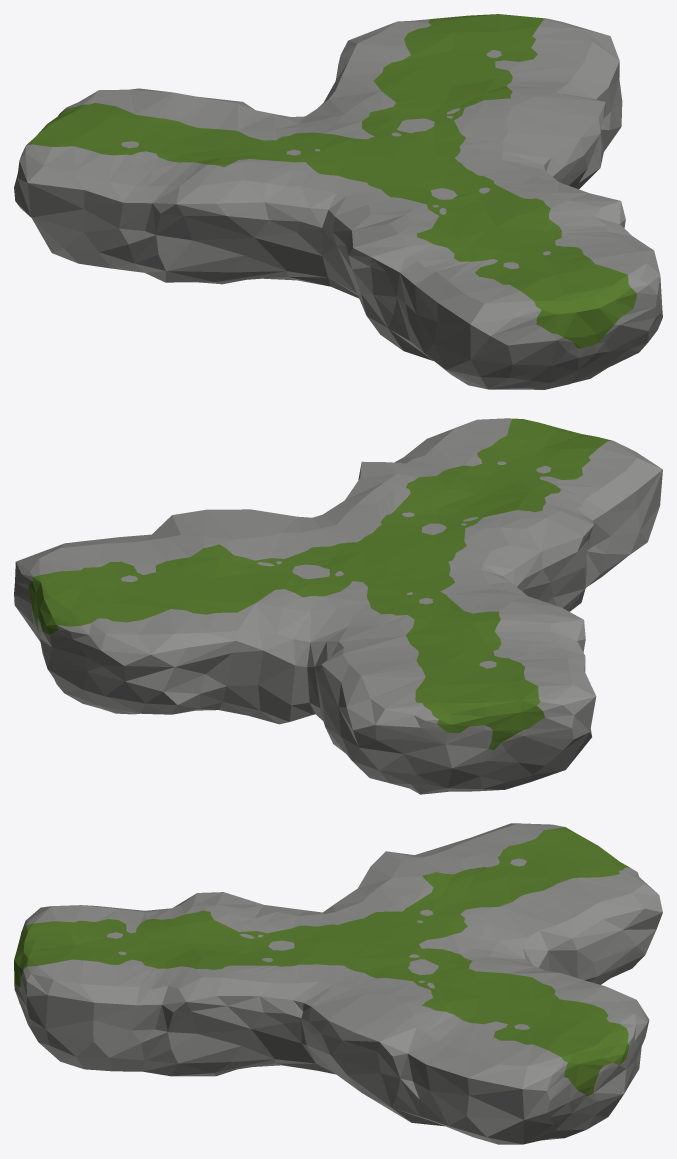
The model's file is Cavern_FloorGrass_Narrow_Intersection-02.fbx.
3 renders of one model, top to bottom at view 1: azimuth 30°, elevation 25°; view 2: azimuth 150°, elevation 25°; view 3: azimuth 270°, elevation 25°, orthographic. The views are drawn at different scales.
Parts seen in each view (by area): view 1: Cavern_FloorGrass_Narrow_Intersection-02; view 2: Cavern_FloorGrass_Narrow_Intersection-02; view 3: Cavern_FloorGrass_Narrow_Intersection-02.
Part boxes in pixels (x1,y1,x2,y2): Cavern_FloorGrass_Narrow_Intersection-02: (14, 14, 662, 389); Cavern_FloorGrass_Narrow_Intersection-02: (14, 418, 662, 794); Cavern_FloorGrass_Narrow_Intersection-02: (14, 823, 662, 1144).
Size of the model in its own units: 2466 by 503 by 2555.
Materials: 1 (1 with a texture image).
